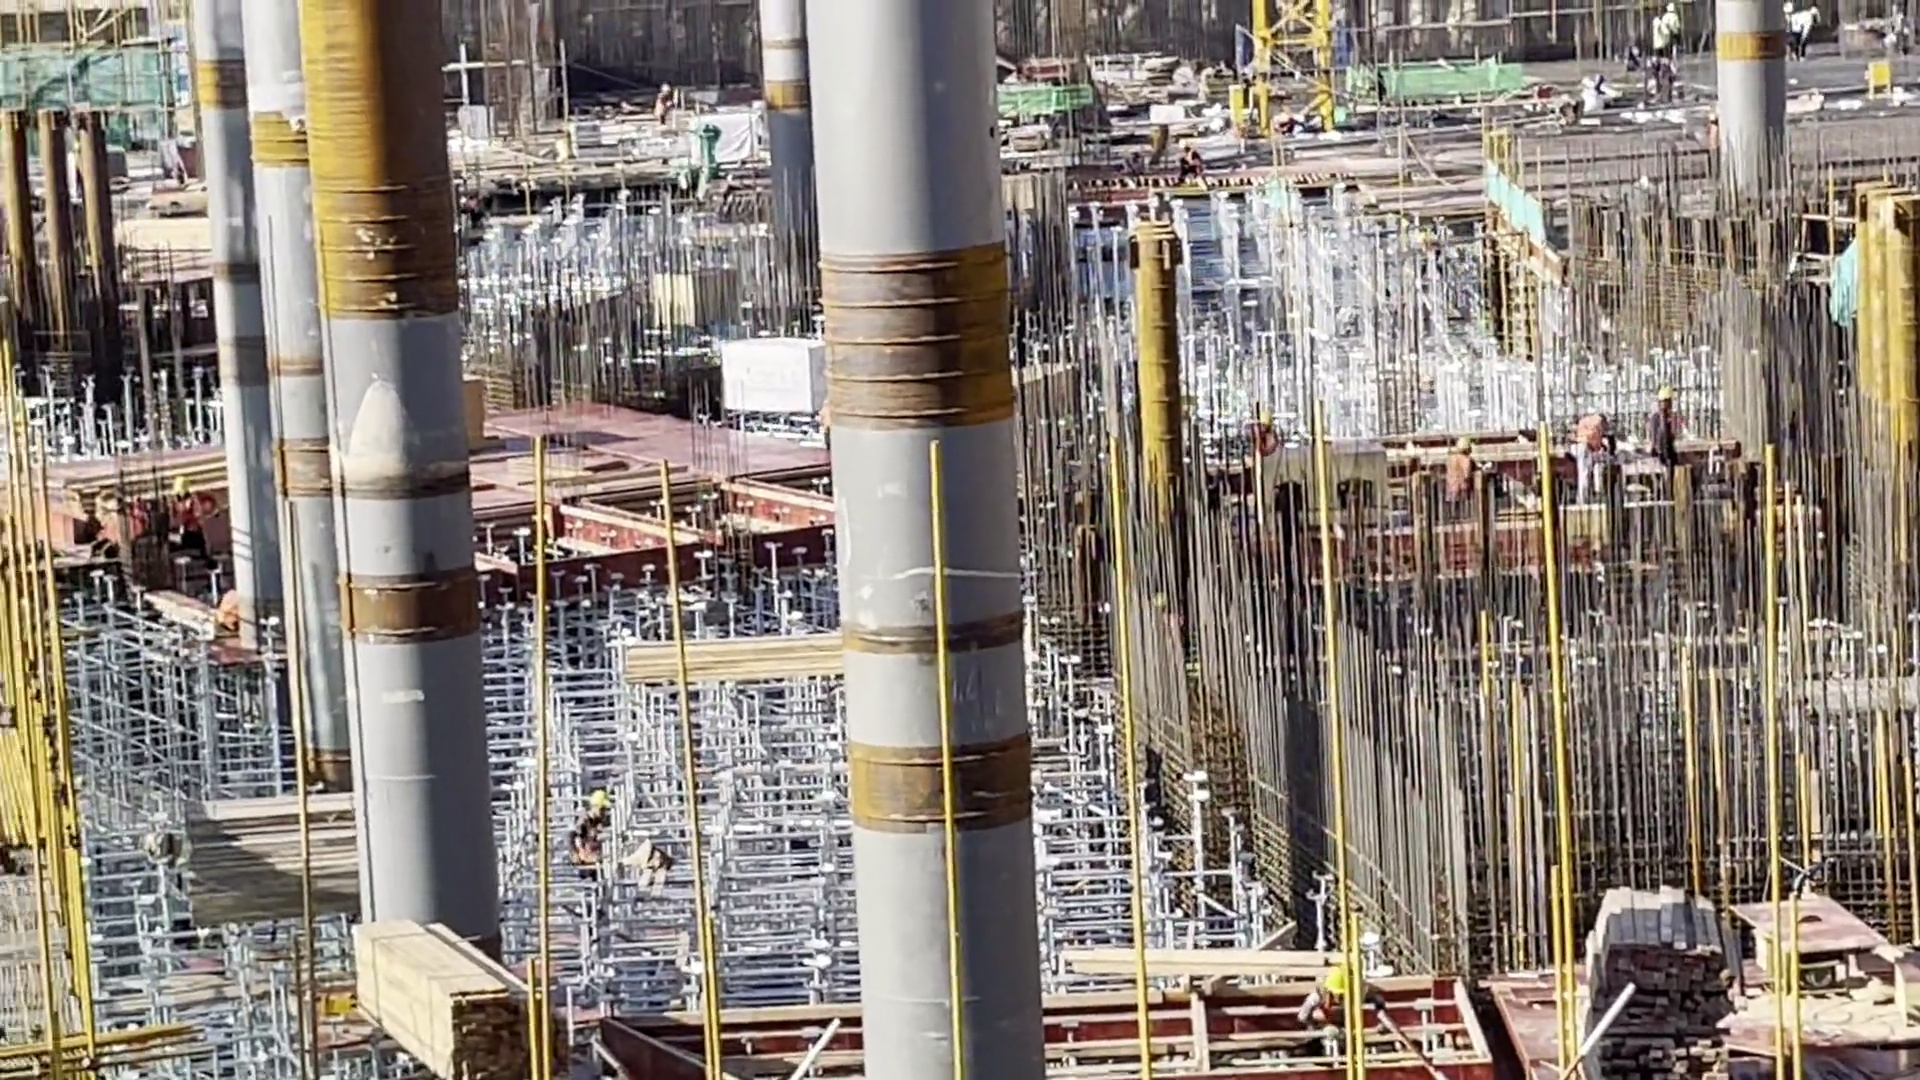helmet: (1319, 957, 1359, 1000)
person: (1293, 965, 1375, 1031)
